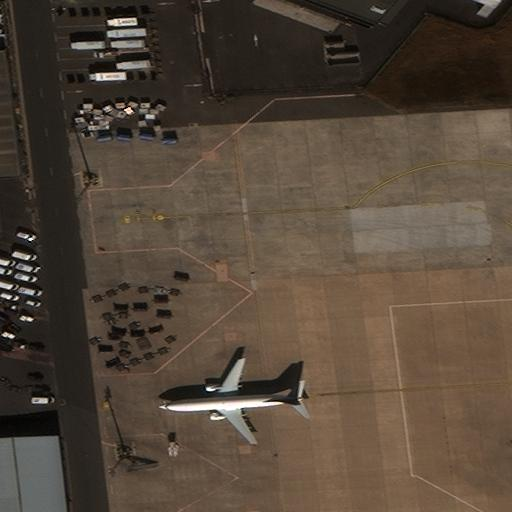Medium Civil Transport: (158, 359, 306, 444)
